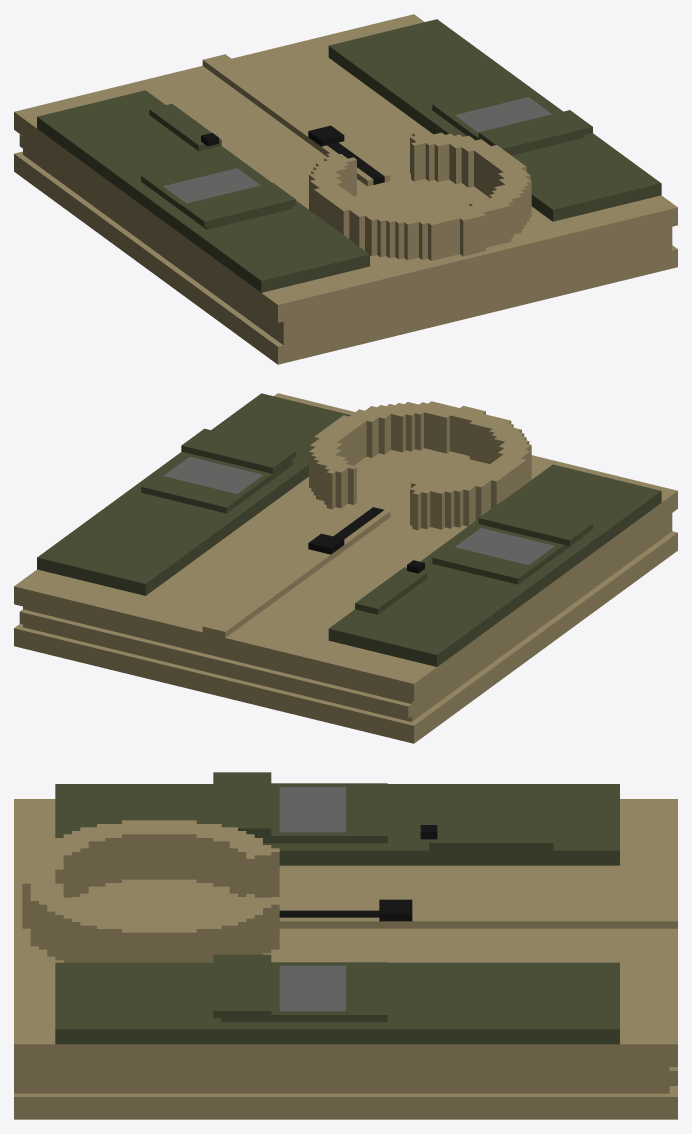
Rendered from combat_shirt.glb.
The picture shows the model from 3 angles, top to bottom: view 1: azimuth 30°, elevation 25°; view 2: azimuth 150°, elevation 25°; view 3: azimuth 270°, elevation 25°; orthographic projection. The views are drawn at different scales.
Parts seen in each view (by area): view 1: combat_shirt:compound; view 2: combat_shirt:compound; view 3: combat_shirt:compound.
Part boxes in pixels (left/top/right/bottom): combat_shirt:compound: left=14, top=14, right=677, bottom=364; combat_shirt:compound: left=14, top=393, right=677, bottom=743; combat_shirt:compound: left=14, top=772, right=677, bottom=1119.
Bounding box in the file's own units: 0.28 × 0.064 × 0.32.
